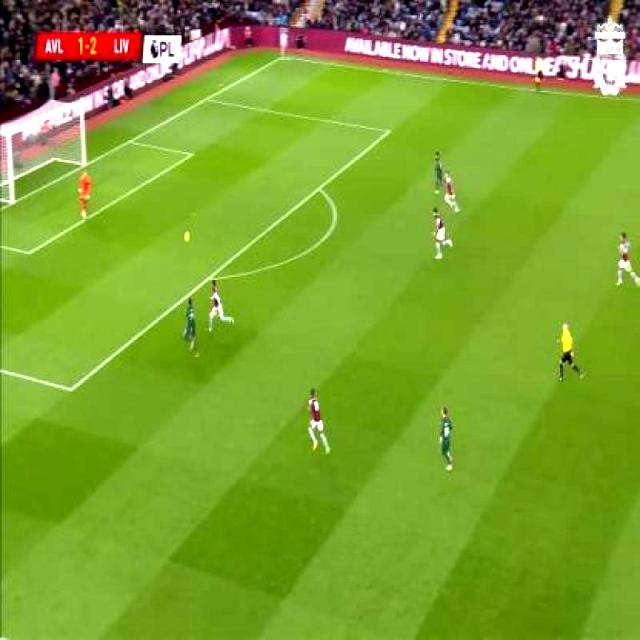bigarea_bottom_inner: (64, 382, 78, 396)
bigarea_top_inner: (383, 123, 395, 140)
bigarea_top_outter: (203, 95, 214, 103)
bottom_arc_area_intersection: (206, 274, 216, 283)
corner: (281, 55, 289, 62)
smallarea_bottom_inner: (22, 246, 36, 259)
smallarea_top_inner: (188, 150, 197, 160)
smallarea_top_outter: (126, 137, 136, 148)
top_arc_area_intersection: (315, 182, 325, 195)
